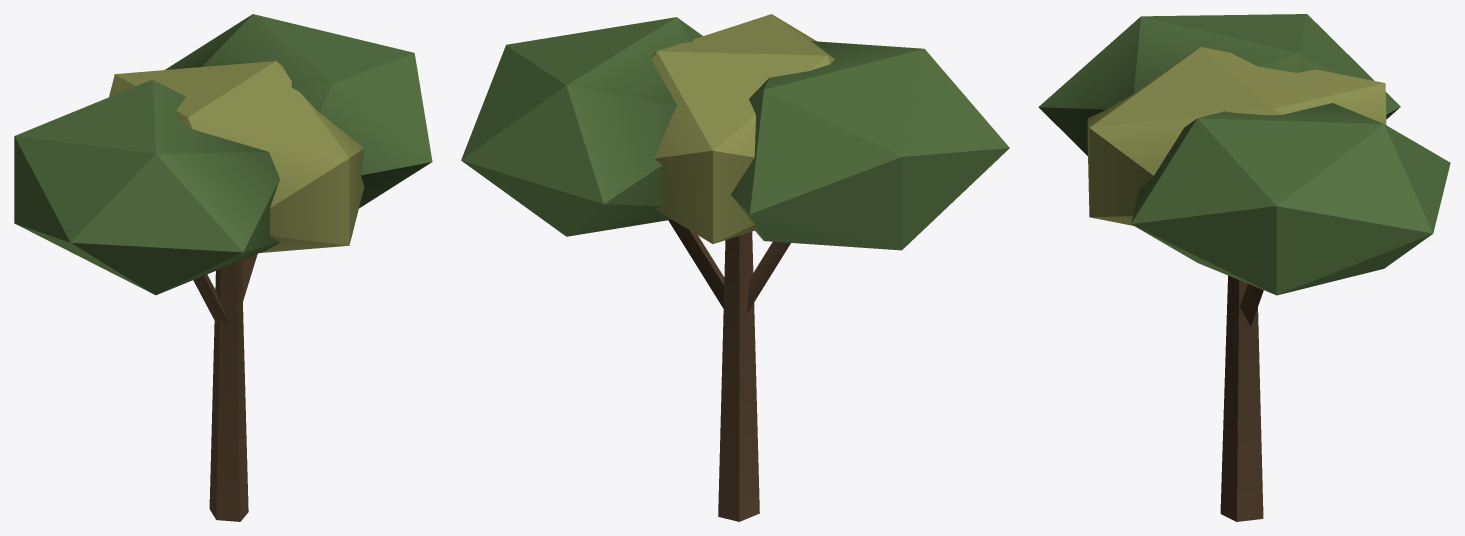
Rendered from tree-pine-1.glb.
3 views of the same model, side by side, from view 1: azimuth 30°, elevation 25°; view 2: azimuth 150°, elevation 25°; view 3: azimuth 270°, elevation 25° (orthographic). The views are drawn at different scales.
Parts seen in each view (by area): view 1: tree-pine-1; view 2: tree-pine-1; view 3: tree-pine-1.
Boxes of the visible parts, <box> form: tree-pine-1: <box>14,14,432,521</box>; tree-pine-1: <box>461,14,1009,521</box>; tree-pine-1: <box>1038,14,1450,521</box>.
Size of the model in its own units: 14 by 14 by 12.
